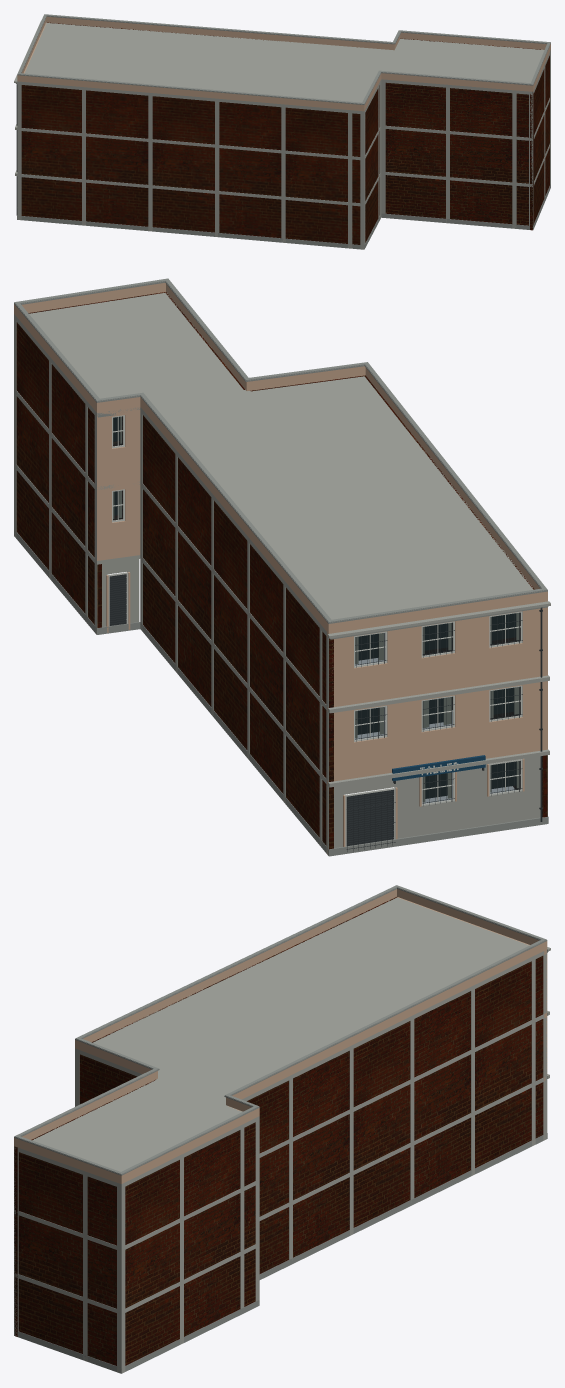
File: building.glb
3 renders of one model, top to bottom at view 1: azimuth 30°, elevation 25°; view 2: azimuth 150°, elevation 25°; view 3: azimuth 270°, elevation 25°, orthographic. The views are drawn at different scales.
Visible parts, largest first — view 1: main:0/edge0/z0/main:0/edge0/z0/wall_0_0, roof/main:0/roof_slab#0001, main:0/edge2/z0/main:0/edge2/z0/wall_0_0/core0, roof/main:0/parapet#0001, roof/main:0/parapet_cap#0002, main:0/edge3/z0/main:0/edge3/z0/wall_0_0/core0, main:0/edge1/z0/main:0/edge1/z0/wall_0_0, roof/main:0/parapet_cap#0001, main:0/edge0/z0/plinth#0001, main:0/edge0/z0/main:0/edge0/z0/beam_1_0, main:0/edge0/z0/main:0/edge0/z0/beam_0_0, main:0/edge0/z0/main:0/edge0/z0/beam_2_0 (+5 smaller); view 2: roof/main:0/roof_slab#0001, main:0/edge6/z0/main:0/edge6/z0/wall_0_0/core0, main:0/edge7/z0/main:0/edge7/z0/wall_1_0/core0, main:0/edge4/z0/main:0/edge4/z0/wall_0_0, roof/main:0/parapet#0001, main:0/edge7/z0/main:0/edge7/z0/coating_0_0_0/core0, main:0/edge5/z0/main:0/edge5/z0/wall_1_0, roof/main:0/parapet_cap#0002, roof/main:0/parapet_cap#0001, main:0/edge7/z0/plinth#0001, main:0/edge6/z0/plinth#0001, main:0/edge7/z0/floor_slab#0002 (+17 smaller); view 3: roof/main:0/roof_slab#0001, main:0/edge6/z0/main:0/edge6/z0/wall_0_0/core0, main:0/edge4/z0/main:0/edge4/z0/wall_0_0, main:0/edge3/z0/main:0/edge3/z0/wall_0_0/core0, roof/main:0/parapet#0001, roof/main:0/parapet_cap#0002, roof/main:0/parapet_cap#0001, main:0/edge6/z0/plinth#0001, main:0/edge1/z0/main:0/edge1/z0/wall_0_0, main:0/edge6/z0/main:0/edge6/z0/beam_0_0/core0, main:0/edge6/z0/main:0/edge6/z0/beam_1_0/core0, main:0/edge6/z0/main:0/edge6/z0/beam_2_0/core0 (+6 smaller).
Part boxes in pixels (x1,y1,x2,y2): main:0/edge0/z0/main:0/edge0/z0/wall_0_0: (21,85,360,244); roof/main:0/roof_slab#0001: (17,22,550,112); main:0/edge2/z0/main:0/edge2/z0/wall_0_0/core0: (385,82,528,225); roof/main:0/parapet#0001: (17,16,550,111); roof/main:0/parapet_cap#0002: (18,14,550,104); main:0/edge3/z0/main:0/edge3/z0/wall_0_0/core0: (534,55,549,222); main:0/edge1/z0/main:0/edge1/z0/wall_0_0: (365,85,379,242); roof/main:0/parapet_cap#0001: (17,16,550,104); main:0/edge0/z0/plinth#0001: (17,216,364,249); main:0/edge0/z0/main:0/edge0/z0/beam_1_0: (17,127,364,160); main:0/edge0/z0/main:0/edge0/z0/beam_0_0: (17,173,364,206); main:0/edge0/z0/main:0/edge0/z0/beam_2_0: (17,81,364,114); roof/main:0/roof_slab#0001: (14,292,533,619); main:0/edge6/z0/main:0/edge6/z0/wall_0_0/core0: (143,415,333,847); main:0/edge7/z0/main:0/edge7/z0/wall_1_0/core0: (332,607,547,781); main:0/edge4/z0/main:0/edge4/z0/wall_0_0: (16,322,101,627); roof/main:0/parapet#0001: (14,283,547,633); main:0/edge7/z0/main:0/edge7/z0/coating_0_0_0/core0: (334,756,540,847); main:0/edge5/z0/main:0/edge5/z0/wall_1_0: (97,407,140,560); roof/main:0/parapet_cap#0002: (14,278,547,622); roof/main:0/parapet_cap#0001: (14,281,547,623); main:0/edge7/z0/plinth#0001: (328,817,548,856); main:0/edge6/z0/plinth#0001: (140,622,326,852); main:0/edge7/z0/floor_slab#0002: (328,675,549,713); roof/main:0/roof_slab#0001: (32,897,546,1186); main:0/edge6/z0/main:0/edge6/z0/wall_0_0/core0: (247,956,543,1273); main:0/edge4/z0/main:0/edge4/z0/wall_0_0: (125,1122,255,1365); main:0/edge3/z0/main:0/edge3/z0/wall_0_0/core0: (18,1152,116,1365); roof/main:0/parapet#0001: (14,889,547,1183); roof/main:0/parapet_cap#0002: (14,885,546,1174); roof/main:0/parapet_cap#0001: (14,888,547,1175); main:0/edge6/z0/plinth#0001: (259,1133,547,1279); main:0/edge1/z0/main:0/edge1/z0/wall_0_0: (79,1054,136,1104); main:0/edge6/z0/main:0/edge6/z0/beam_0_0/core0: (259,1076,547,1220); main:0/edge6/z0/main:0/edge6/z0/beam_1_0/core0: (259,1014,547,1157); main:0/edge6/z0/main:0/edge6/z0/beam_2_0/core0: (242,951,547,1101).
Bounding box in the file's own units: 29.64 × 9.47 × 23.09.
Materials: 10 (1 with a texture image).
